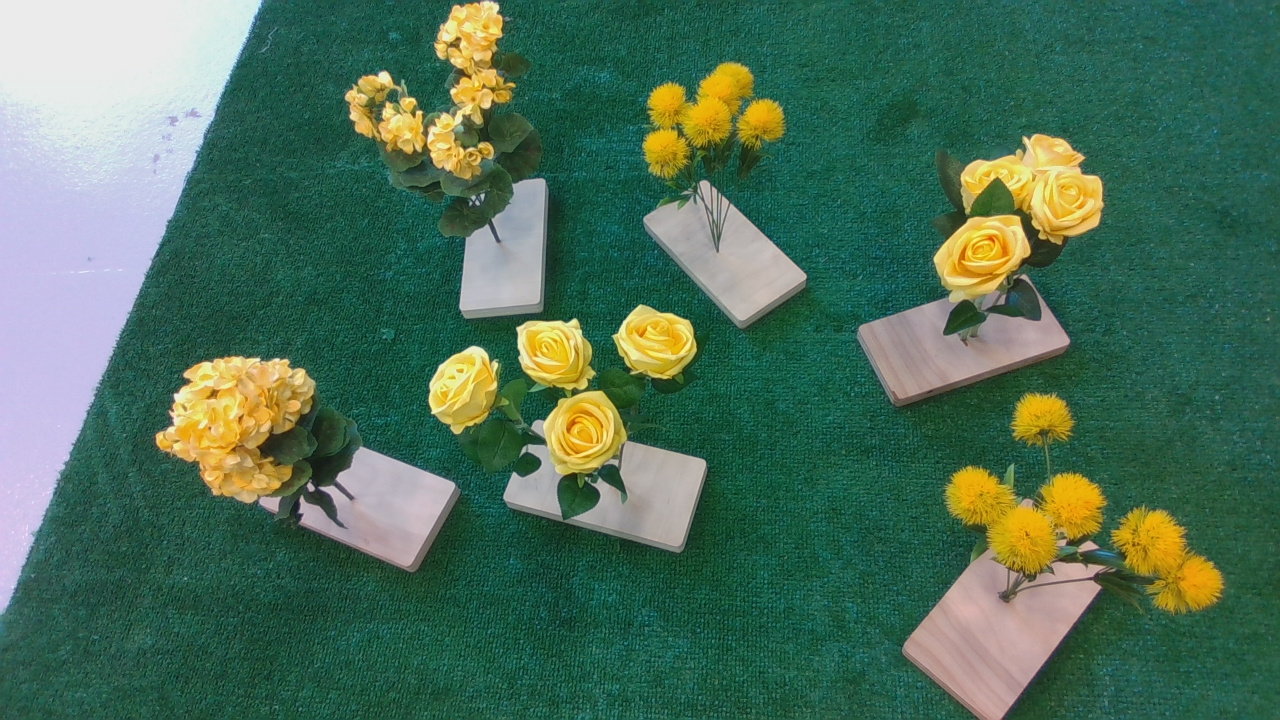dandelion: (948, 394, 1248, 624), (641, 60, 802, 192)
geranium: (349, 3, 555, 238), (145, 348, 373, 533)
rose: (426, 308, 721, 517), (929, 130, 1121, 347)
